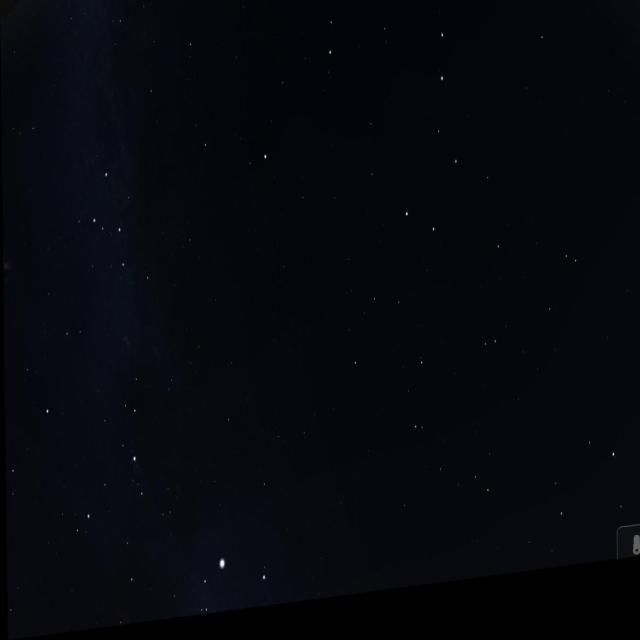cassiopeia: (86, 152, 164, 309)
ursa_major: (398, 0, 481, 260)
